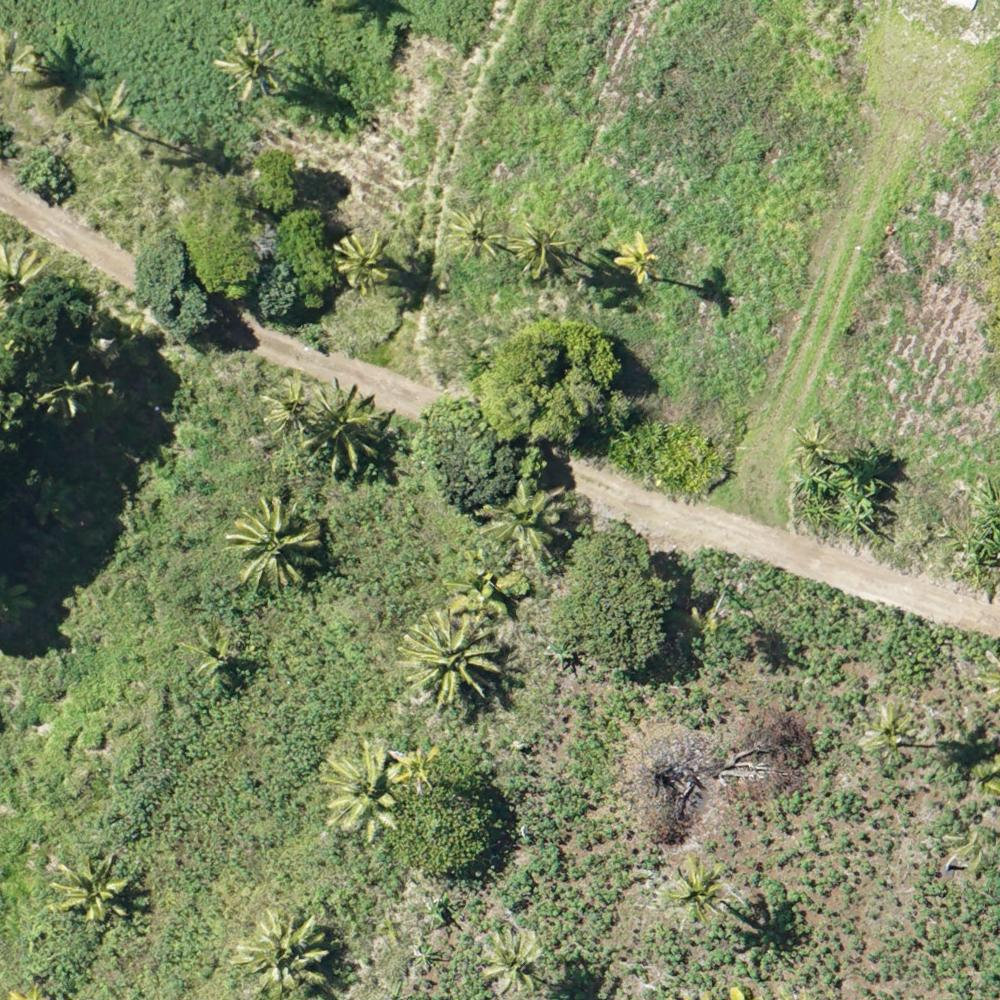Palm: (399, 610, 500, 710), (225, 498, 328, 588), (480, 476, 574, 569), (236, 910, 328, 996), (320, 742, 402, 836), (309, 384, 388, 479), (48, 850, 132, 927), (72, 82, 136, 155), (509, 211, 573, 284), (216, 31, 285, 97), (476, 926, 542, 992), (663, 858, 724, 927), (861, 700, 920, 765), (185, 629, 240, 688), (261, 378, 315, 438), (337, 230, 389, 291), (449, 207, 503, 262), (389, 742, 438, 798), (611, 231, 661, 284)
